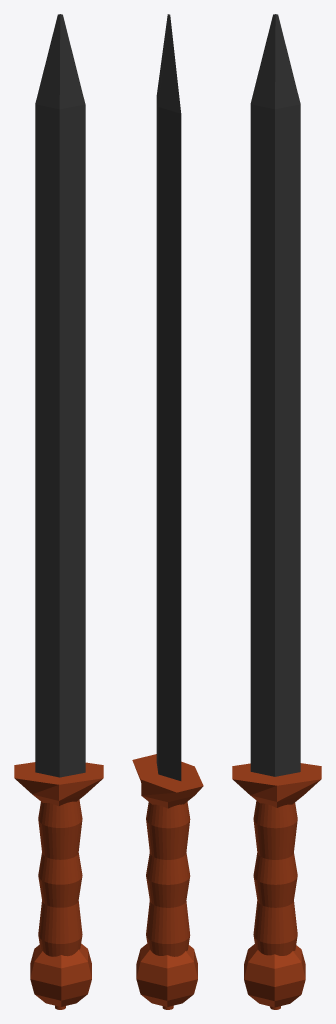
Rendered from GladiatorSword.FBX.
The picture shows the model from 3 angles, left to right: view 1: azimuth 90°, elevation 25°; view 2: azimuth 210°, elevation 25°; view 3: azimuth 270°, elevation 25°; orthographic projection.
Parts seen in each view (by area): view 1: Cube; view 2: Cube; view 3: Cube.
Boxes of the visible parts, left/top/right/bottom form: Cube: left=14, top=14, right=103, bottom=1009; Cube: left=132, top=14, right=203, bottom=1009; Cube: left=232, top=14, right=321, bottom=1009.
Bounding box in the file's own units: 2 × 30.69 × 2.5.
